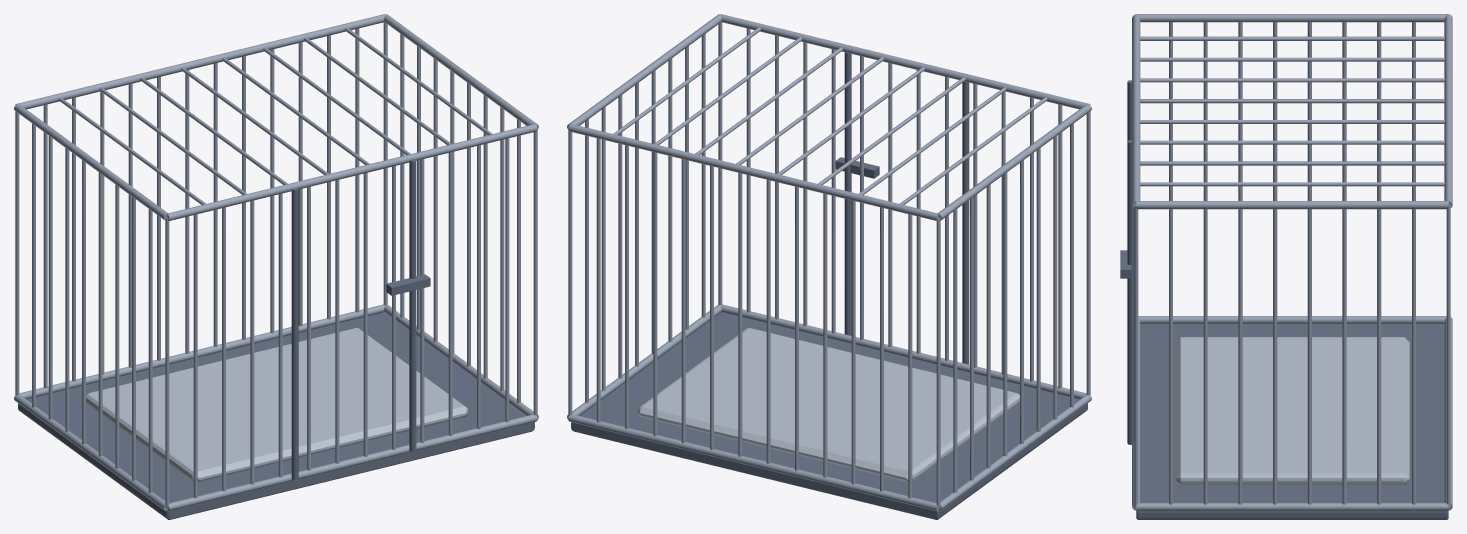
File: dog-crate-lite.glb
3 renders of one model, left to right at view 1: azimuth 30°, elevation 25°; view 2: azimuth 150°, elevation 25°; view 3: azimuth 270°, elevation 25°, orthographic. The views are drawn at different scales.
Parts seen in each view (by area): view 1: body, soft, dark; view 2: body, soft, dark; view 3: body, soft, dark.
Boxes of the visible parts, x1,y1,x2,y2 form: body: (14,14,538,511); soft: (86,328,468,482); dark: (18,159,534,519); body: (567,14,1091,511); soft: (637,328,1019,482); dark: (571,52,1087,519); body: (1132,14,1452,510); soft: (1175,337,1409,484); dark: (1120,80,1448,519).
Size of the model in its own units: 0.8652 by 0.678 by 0.639.
